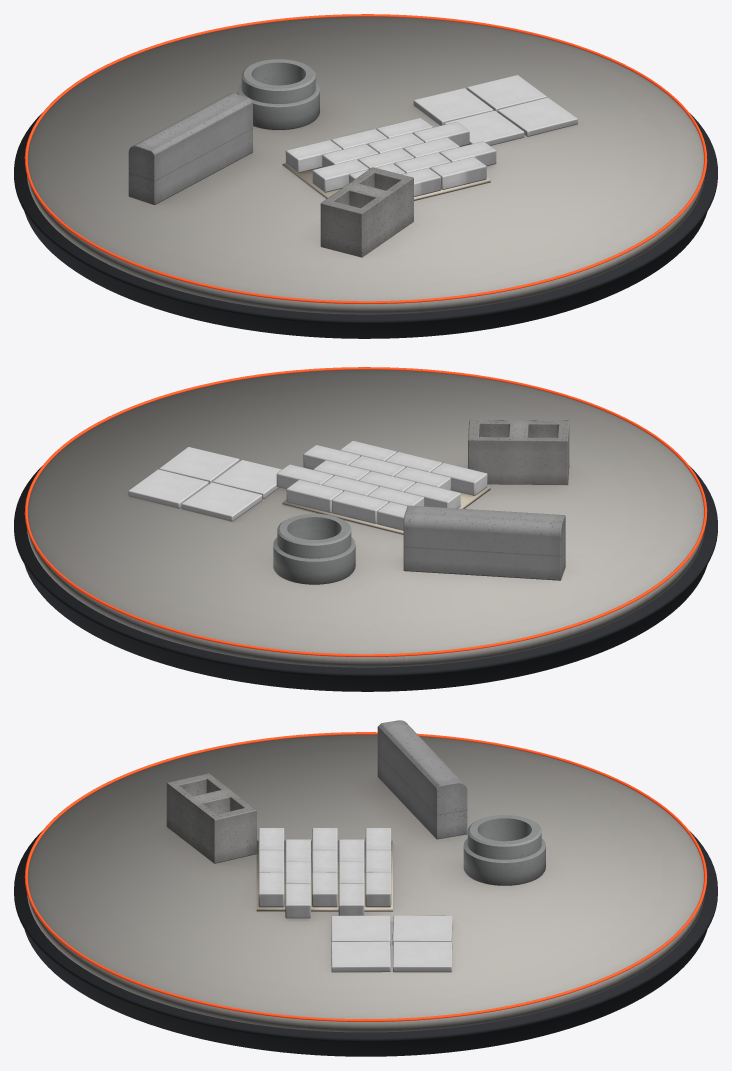
File: om-group-products.glb
The picture shows the model from 3 angles, top to bottom: view 1: azimuth 30°, elevation 25°; view 2: azimuth 150°, elevation 25°; view 3: azimuth 270°, elevation 25°; orthographic projection.
Parts seen in each view (by area): view 1: Turntable, Drum, Kerb, HollowBlock, TurntableRim, RingUnit, Tile_A_3, Tile_A_0, Tile_B_1, Tile_B_2, Paver_B_14, Paver_R_0 (+12 smaller); view 2: Turntable, Drum, Kerb, HollowBlock, TurntableRim, RingUnit, Tile_A_0, Tile_B_1, Tile_A_3, Tile_B_2, Paver_B_2, Paver_B_1 (+14 smaller); view 3: Turntable, Drum, Kerb, HollowBlock, TurntableRim, RingUnit, Tile_B_1, Tile_A_3, Tile_B_2, Tile_A_0, SandBed, Paver_B_2 (+14 smaller).
Boxes of the visible parts, bbox=[...] form: Turntable: bbox=[27, 16, 704, 314]; Drum: bbox=[14, 112, 717, 338]; Kerb: bbox=[128, 93, 252, 204]; HollowBlock: bbox=[320, 167, 413, 257]; TurntableRim: bbox=[24, 14, 707, 303]; RingUnit: bbox=[237, 59, 319, 129]; Tile_A_3: bbox=[497, 97, 577, 136]; Tile_A_0: bbox=[413, 88, 493, 125]; Tile_B_1: bbox=[466, 75, 546, 111]; Tile_B_2: bbox=[444, 110, 524, 145]; Paver_B_14: bbox=[430, 157, 486, 189]; Paver_R_0: bbox=[285, 140, 342, 172]; Turntable: bbox=[27, 369, 704, 667]; Drum: bbox=[14, 465, 717, 691]; Kerb: bbox=[403, 505, 565, 580]; HollowBlock: bbox=[468, 419, 569, 485]; TurntableRim: bbox=[24, 367, 707, 656]; RingUnit: bbox=[273, 514, 355, 584]; Tile_A_0: bbox=[181, 482, 262, 521]; Tile_B_1: bbox=[128, 469, 208, 508]; Tile_A_3: bbox=[159, 447, 239, 483]; Tile_B_2: bbox=[213, 460, 281, 498]; Paver_B_2: bbox=[286, 479, 343, 512]; Paver_B_1: bbox=[332, 491, 388, 523]; Turntable: bbox=[27, 734, 704, 1032]; Drum: bbox=[14, 830, 717, 1056]; Kerb: bbox=[377, 720, 467, 839]; HollowBlock: bbox=[166, 773, 256, 863]; TurntableRim: bbox=[24, 732, 707, 1021]; RingUnit: bbox=[463, 815, 545, 885]; Tile_B_1: bbox=[393, 941, 452, 972]; Tile_A_3: bbox=[331, 941, 390, 972]; Tile_B_2: bbox=[331, 915, 390, 945]; Tile_A_0: bbox=[392, 915, 452, 945]; SandBed: bbox=[256, 840, 392, 911]; Paver_B_2: bbox=[365, 872, 391, 907].
Bounding box in the file's own units: 27.4 × 3.95 × 27.4.
Materials: 9 (7 with a texture image).
